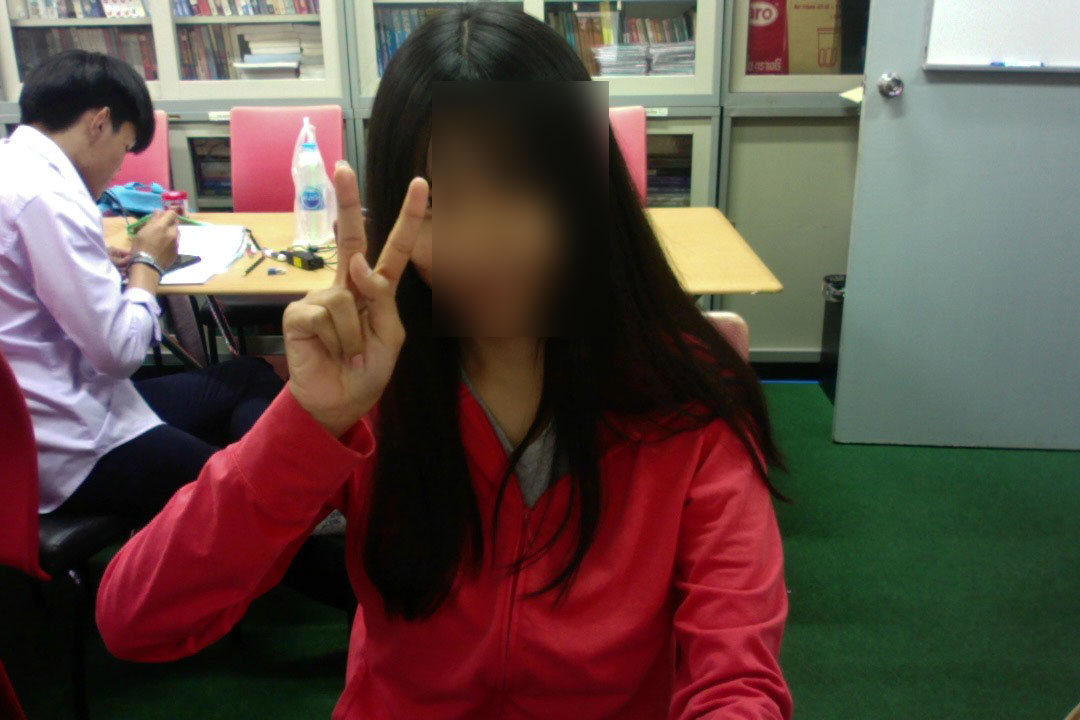ko: (256, 154, 442, 411)
